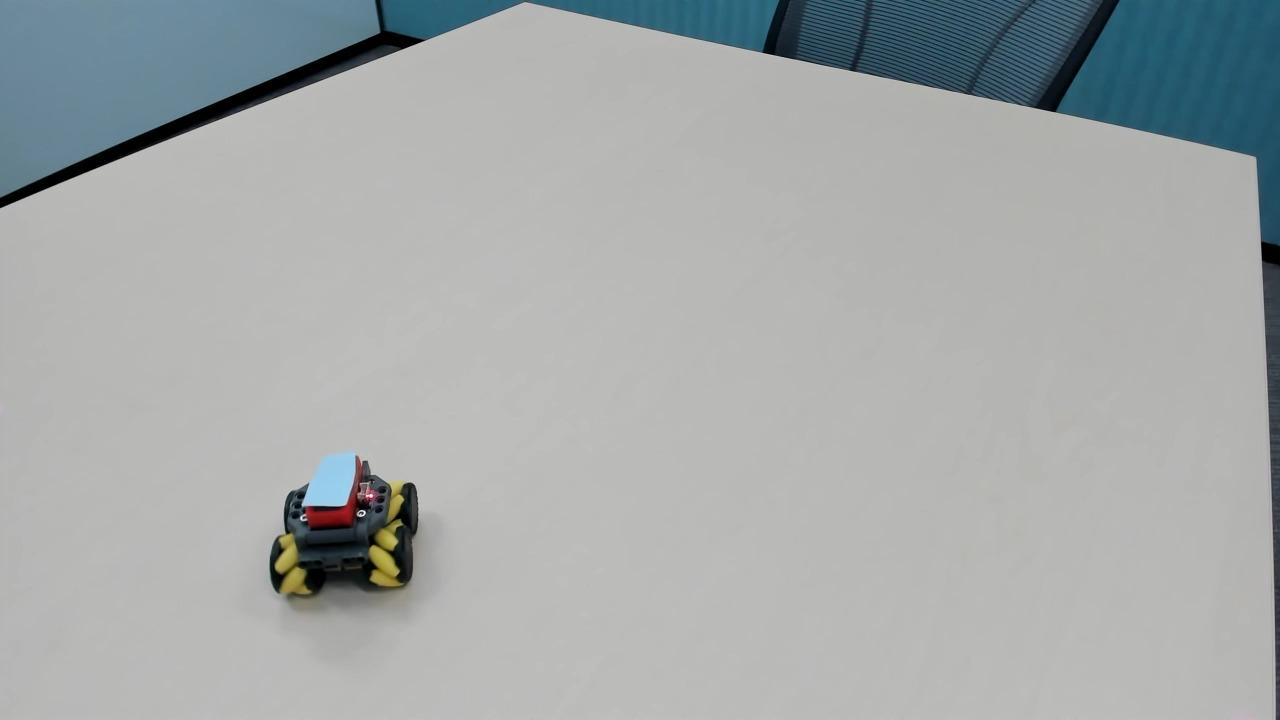B-Robot: (263, 440, 431, 625)
